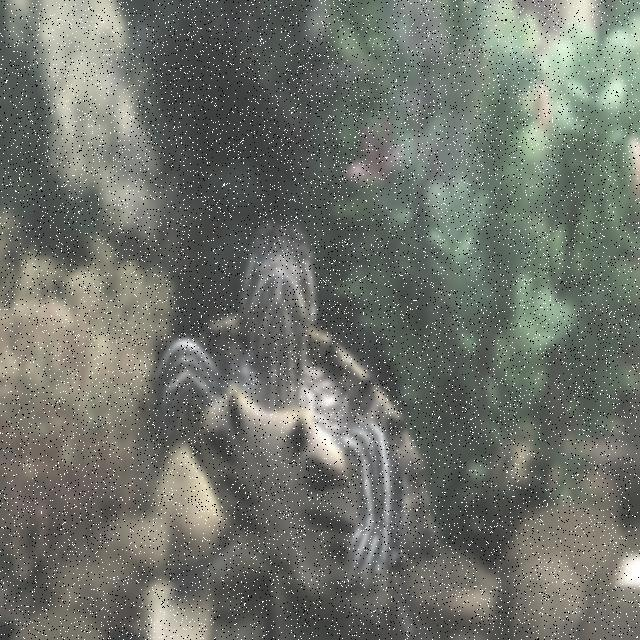tortoise: (145, 219, 455, 601)
